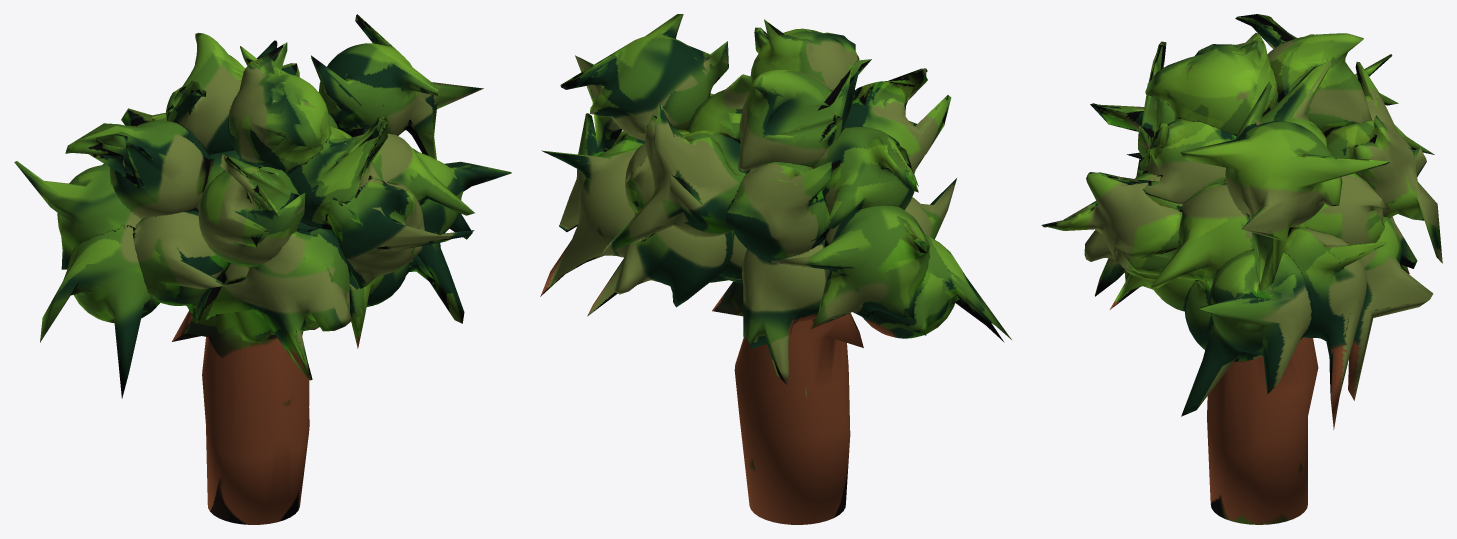
Rendered from asset.glb.
3 views of the same model, side by side, from view 1: azimuth 30°, elevation 25°; view 2: azimuth 150°, elevation 25°; view 3: azimuth 270°, elevation 25° (orthographic). The views are drawn at different scales.
Parts seen in each view (by area): view 1: Sphere; view 2: Sphere; view 3: Sphere.
Boxes of the visible parts, x1,y1,x2,y2 form: Sphere: (14, 14, 511, 524); Sphere: (540, 14, 1011, 524); Sphere: (1041, 14, 1442, 524).
Bounding box in the file's own units: 9.93 × 9.83 × 7.44.
Materials: 1 (1 with a texture image).
